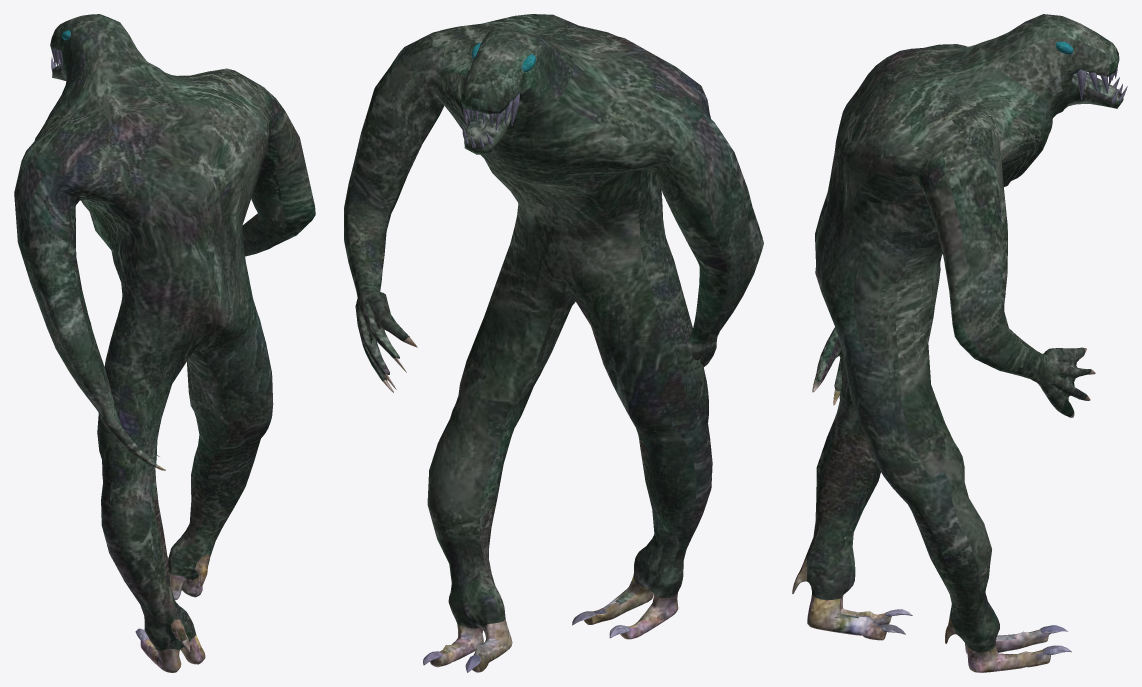
The model's file is Andar.0004.obj.
3 views of the same model, side by side, from view 1: azimuth 30°, elevation 25°; view 2: azimuth 150°, elevation 25°; view 3: azimuth 270°, elevation 25° (orthographic). The views are drawn at different scales.
Visible parts, largest first — view 1: polySurface28; view 2: polySurface28; view 3: polySurface28.
Boxes of the visible parts, x1,y1,x2,y2 form: polySurface28: [14, 14, 315, 672]; polySurface28: [344, 14, 763, 672]; polySurface28: [792, 14, 1127, 672].
Bounding box in the file's own units: 1.28 × 2.27 × 1.11.
Materials: 4 (4 with a texture image).
